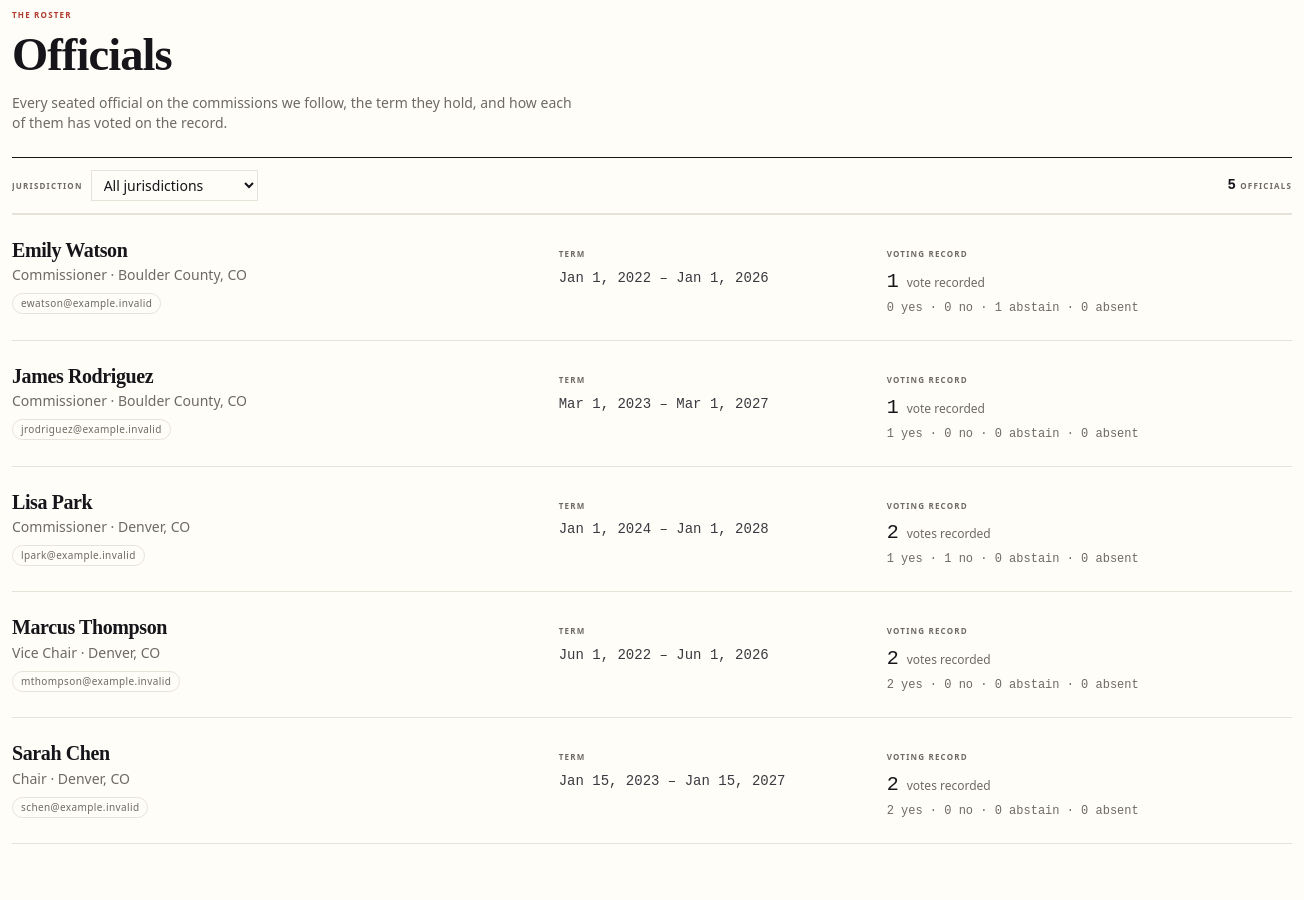
Test: OfficialsPage › filters the roster by jurisdiction
Check: the element "Sarah Chen" is shown, box [12,717,1292,843]
Step 1. Select "Boulder County, CO" in the dropdown labelled "Jurisdiction" → (174, 185), box [91,170,258,201]
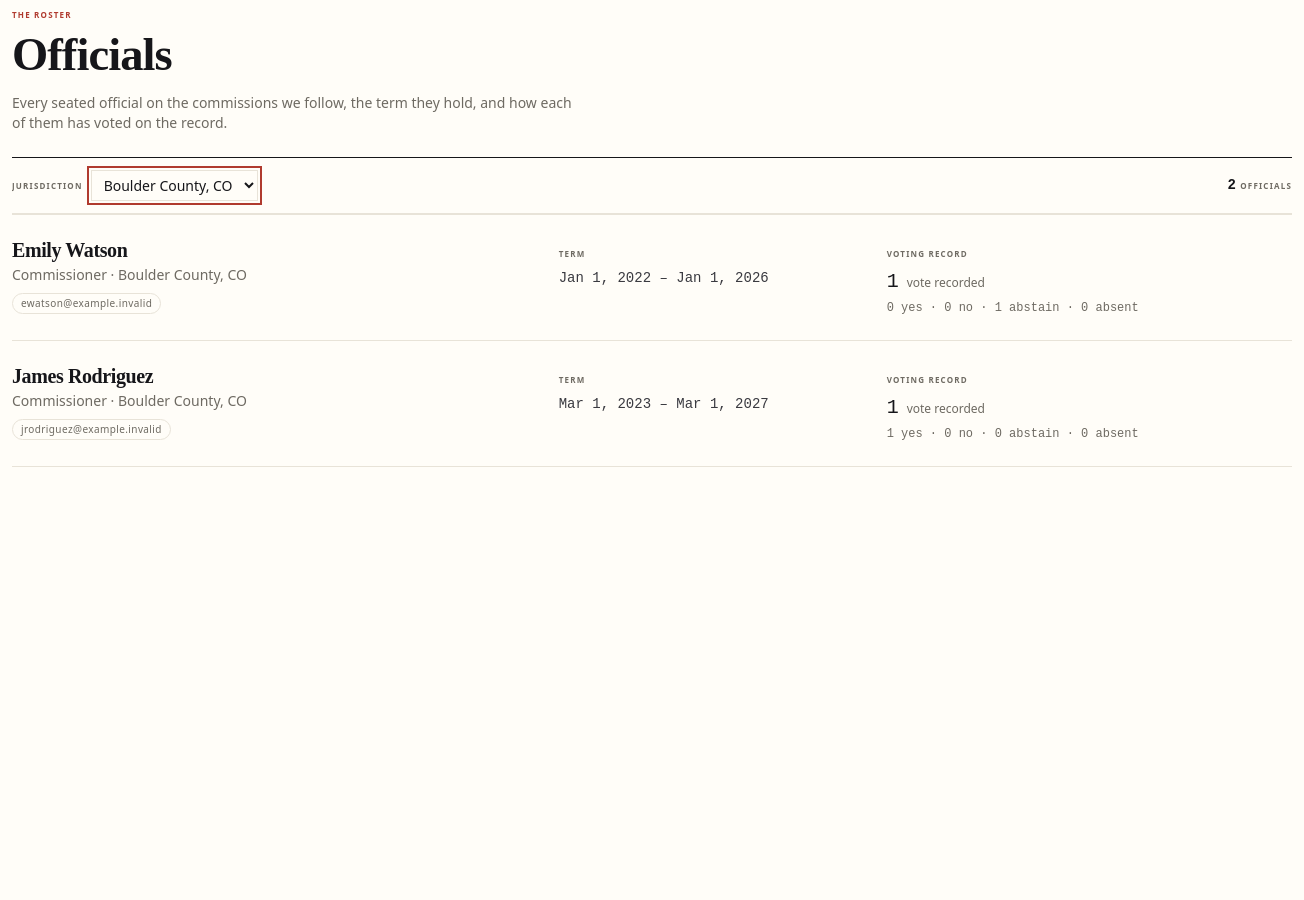
Check: the element "James Rodriguez" is shown, box [12,340,1292,466]
Check: the link "Sarah Chen" is gone
